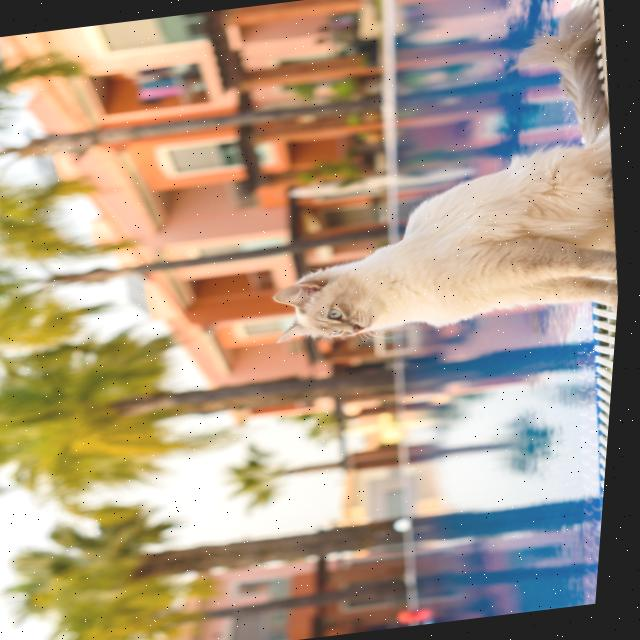Neva Masquerade: (235, 3, 640, 360)
